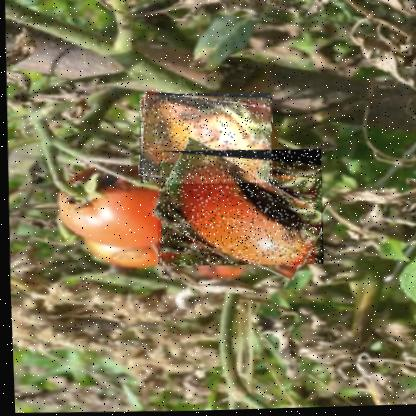tomato_rotten: (152, 148, 323, 271), (135, 92, 272, 187)
